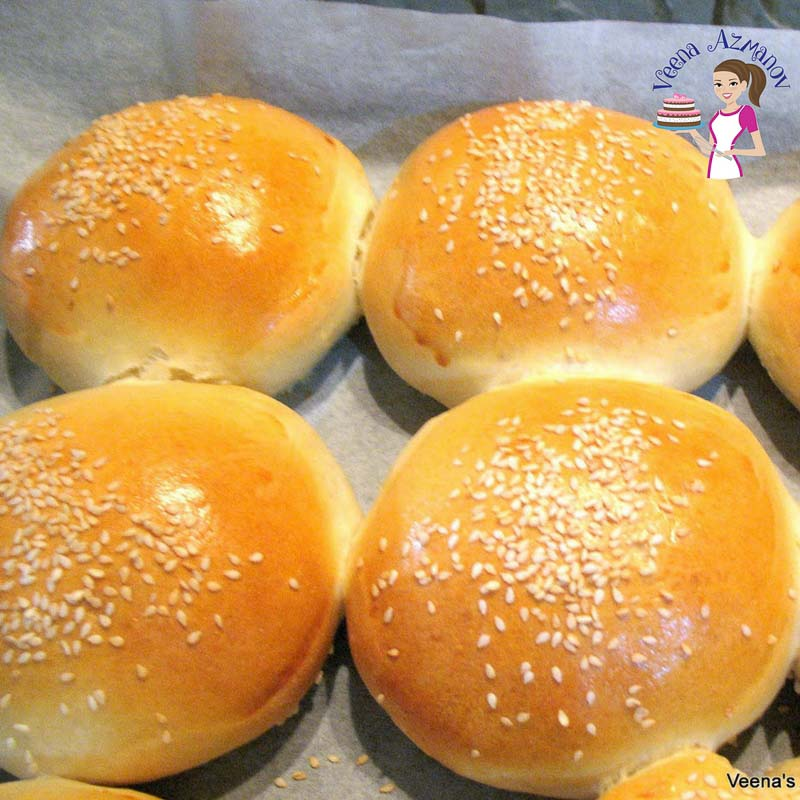hamburger_buns: (332, 362, 788, 769), (349, 94, 752, 406), (1, 90, 392, 398)
